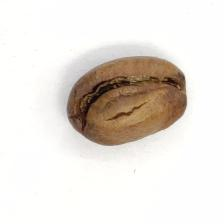NG: (75, 69, 184, 124)
